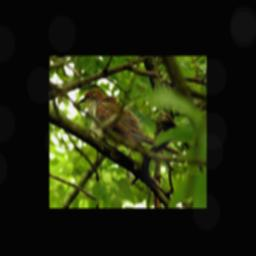Cuckoo: (78, 86, 185, 158)
